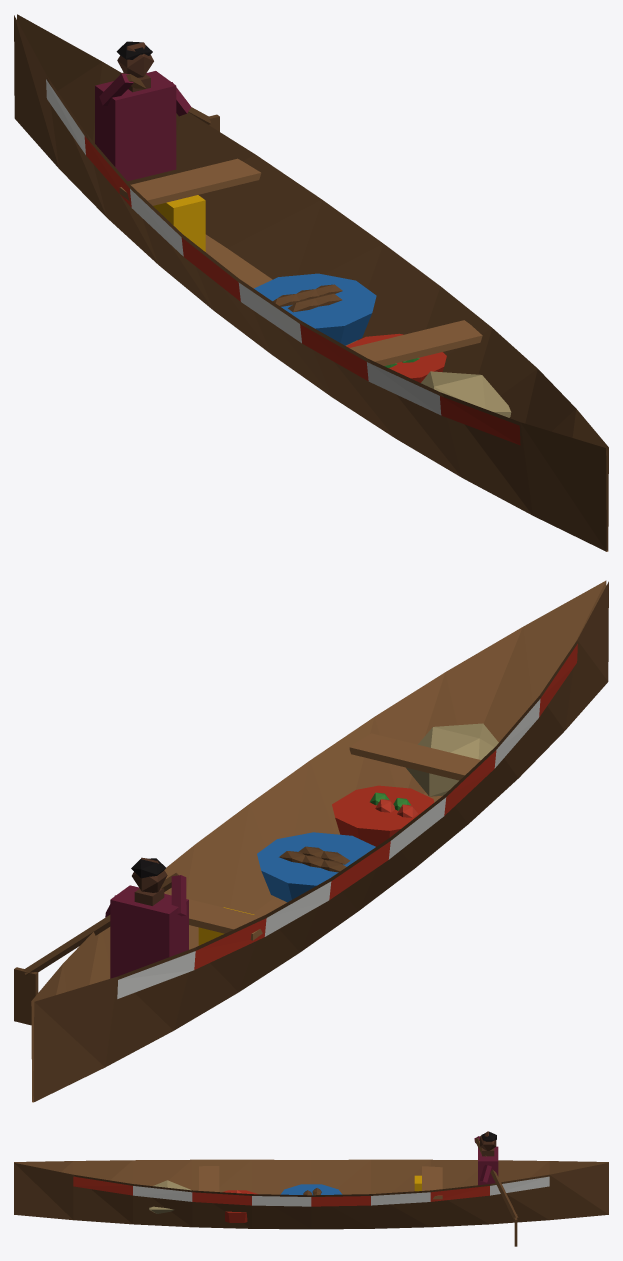
Rendered from prop_canoe-goods.glb.
3 renders of one model, top to bottom at view 1: azimuth 30°, elevation 25°; view 2: azimuth 150°, elevation 25°; view 3: azimuth 270°, elevation 25°, orthographic. The views are drawn at different scales.
Parts seen in each view (by area): view 1: body; view 2: body; view 3: body.
Boxes of the visible parts, left/top/right/bottom form: body: left=14, top=14, right=608, bottom=551; body: left=14, top=580, right=608, bottom=1102; body: left=14, top=1131, right=608, bottom=1246.
Bounding box in the file's own units: 1.14 × 1.03 × 6.4.
